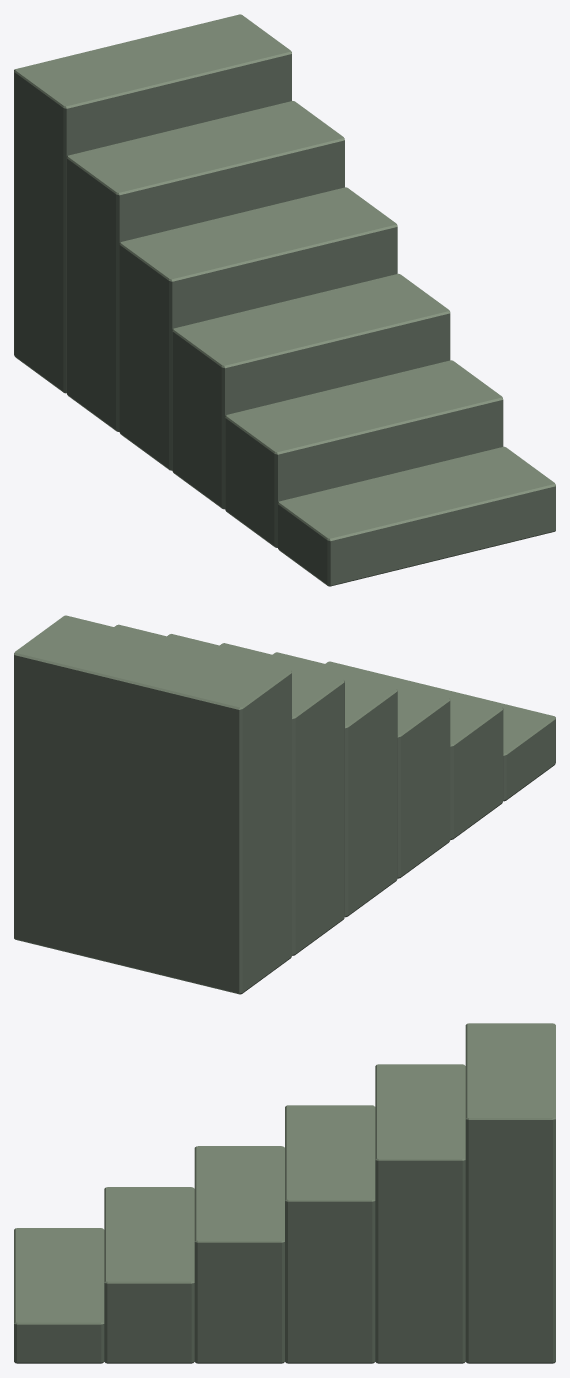
The model's file is stair-narrow.glb.
3 views of the same model, one above another, from view 1: azimuth 30°, elevation 25°; view 2: azimuth 150°, elevation 25°; view 3: azimuth 270°, elevation 25° (orthographic). The views are drawn at different scales.
Visible parts, largest first — view 1: stair-narrow__body; view 2: stair-narrow__body; view 3: stair-narrow__body.
Part boxes in pixels (x1,y1,x2,y2): stair-narrow__body: (14,14,555,586); stair-narrow__body: (14,615,555,994); stair-narrow__body: (14,1023,555,1363).
Size of the model in its own units: 1 by 1.2 by 2.4.
